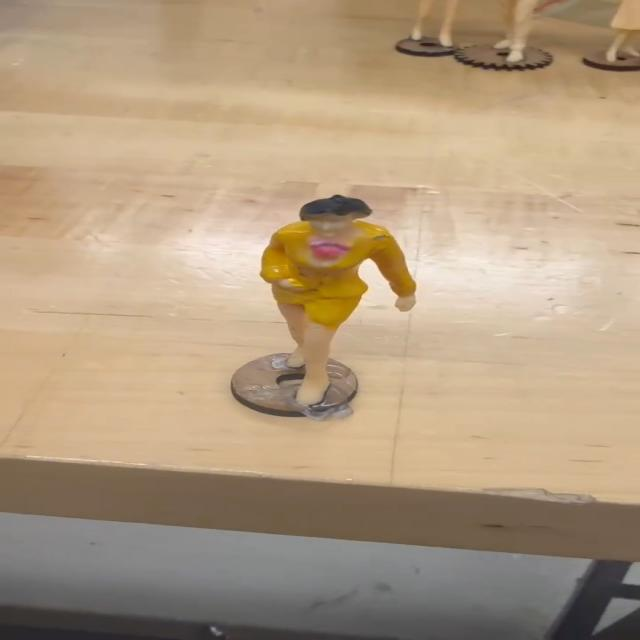Authorized: (255, 188, 424, 411)
